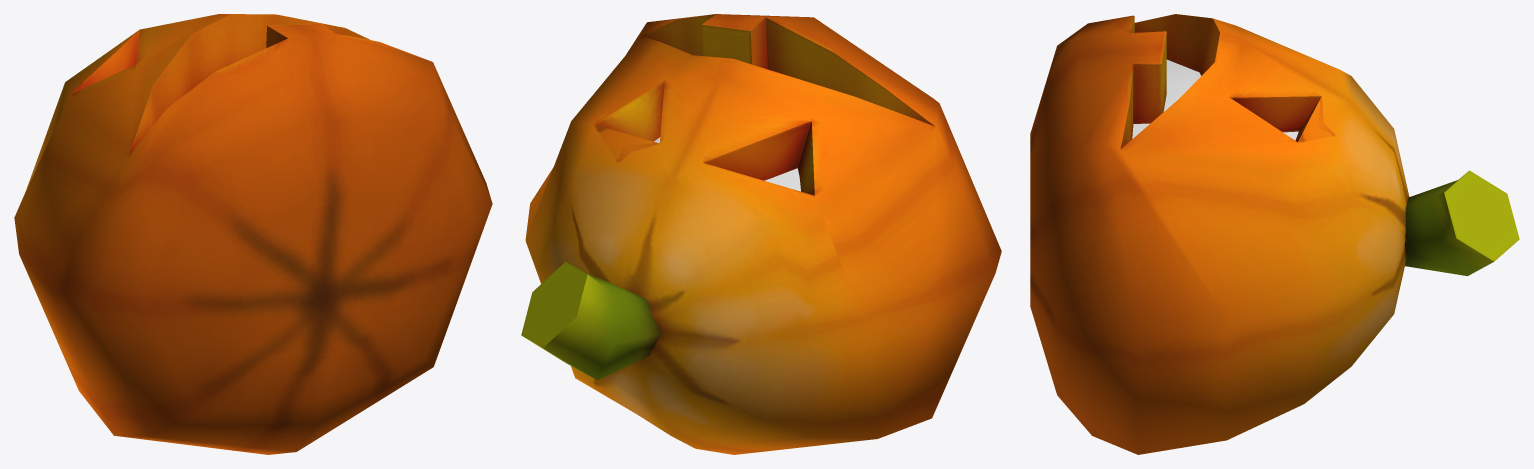
File: PumpkinSad.fbx
3 views of the same model, side by side, from view 1: azimuth 30°, elevation 25°; view 2: azimuth 150°, elevation 25°; view 3: azimuth 270°, elevation 25° (orthographic).
Parts seen in each view (by area): view 1: PumpkinSadShell; view 2: PumpkinSadShell; view 3: PumpkinSadShell, PumpkinSadInterior.
Part boxes in pixels (x1=…): PumpkinSadShell: x1=14, y1=14, x2=492, y2=454; PumpkinSadShell: x1=521, y1=14, x2=1001, y2=454; PumpkinSadShell: x1=1030, y1=14, x2=1519, y2=454; PumpkinSadInterior: x1=1132, y1=59, x2=1298, y2=140.
Bounding box in the file's own units: 43.84 × 39.89 × 42.97.
